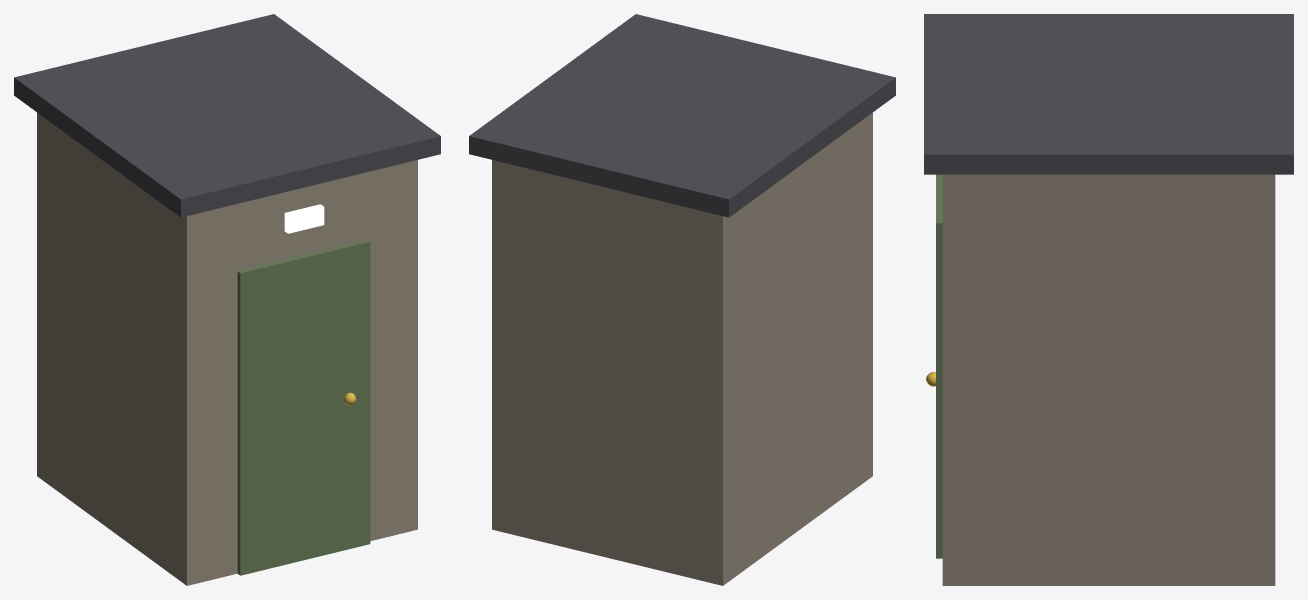
Rendered from rooftop_door.glb.
3 views of the same model, side by side, from view 1: azimuth 30°, elevation 25°; view 2: azimuth 150°, elevation 25°; view 3: azimuth 270°, elevation 25° (orthographic). The views are drawn at different scales.
Visible parts, largest first — view 1: main, light; view 2: main; view 3: main.
Part boxes in pixels (x1,y1,x2,y2): main: (14,14,440,585); light: (284,204,324,233); main: (469,14,895,585); main: (924,14,1293,585).
Bounding box in the file's own units: 1.8 × 2.62 × 2.
